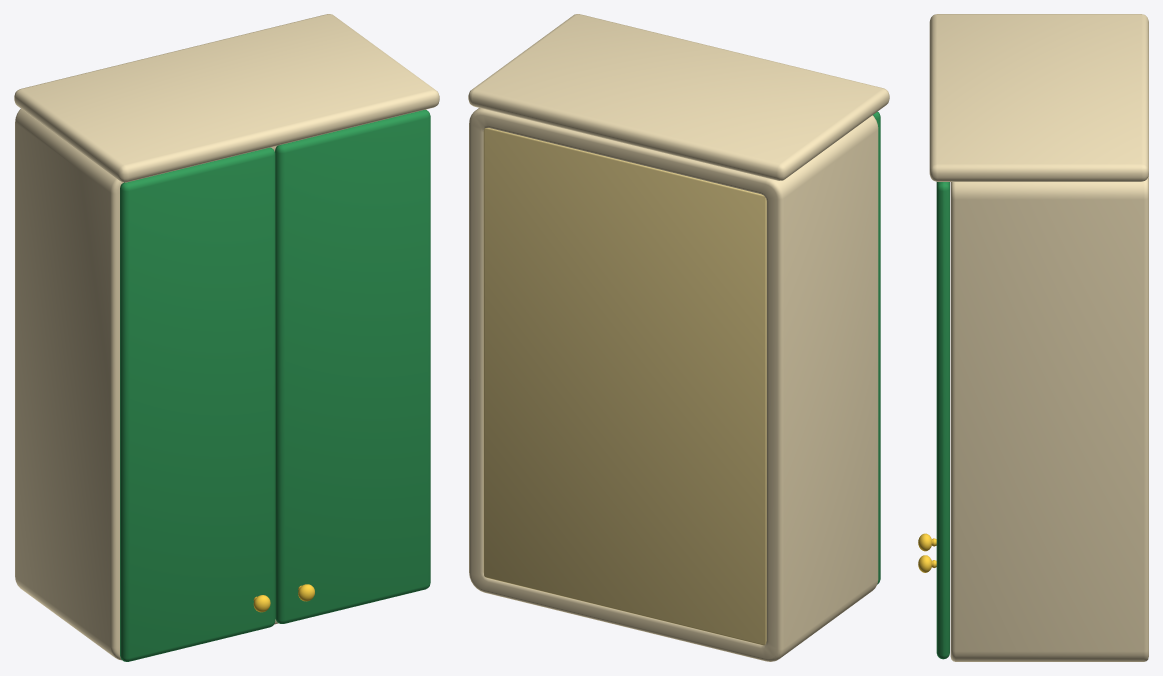
The model's file is armario_parede_alto_2portas_creme.glb.
The picture shows the model from 3 angles, left to right: view 1: azimuth 30°, elevation 25°; view 2: azimuth 150°, elevation 25°; view 3: azimuth 270°, elevation 25°; orthographic projection.
Parts seen in each view (by area): view 1: armario_parede_alto_2portas_creme, porta_2, porta_1; view 2: armario_parede_alto_2portas_creme, porta_1; view 3: armario_parede_alto_2portas_creme, porta_2.
Part boxes in pixels (<box>): armario_parede_alto_2portas_creme: <box>14,14,439,660</box>; porta_2: <box>275,109,430,623</box>; porta_1: <box>120,147,275,661</box>; armario_parede_alto_2portas_creme: <box>468,14,889,661</box>; porta_1: <box>873,111,880,584</box>; armario_parede_alto_2portas_creme: <box>929,14,1148,661</box>; porta_2: <box>918,182,949,659</box>.
Bounding box in the file's own units: 0.598 × 0.9 × 0.375.
Materials: 1 (1 with a texture image).
